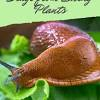slug: (6, 22, 100, 88)
